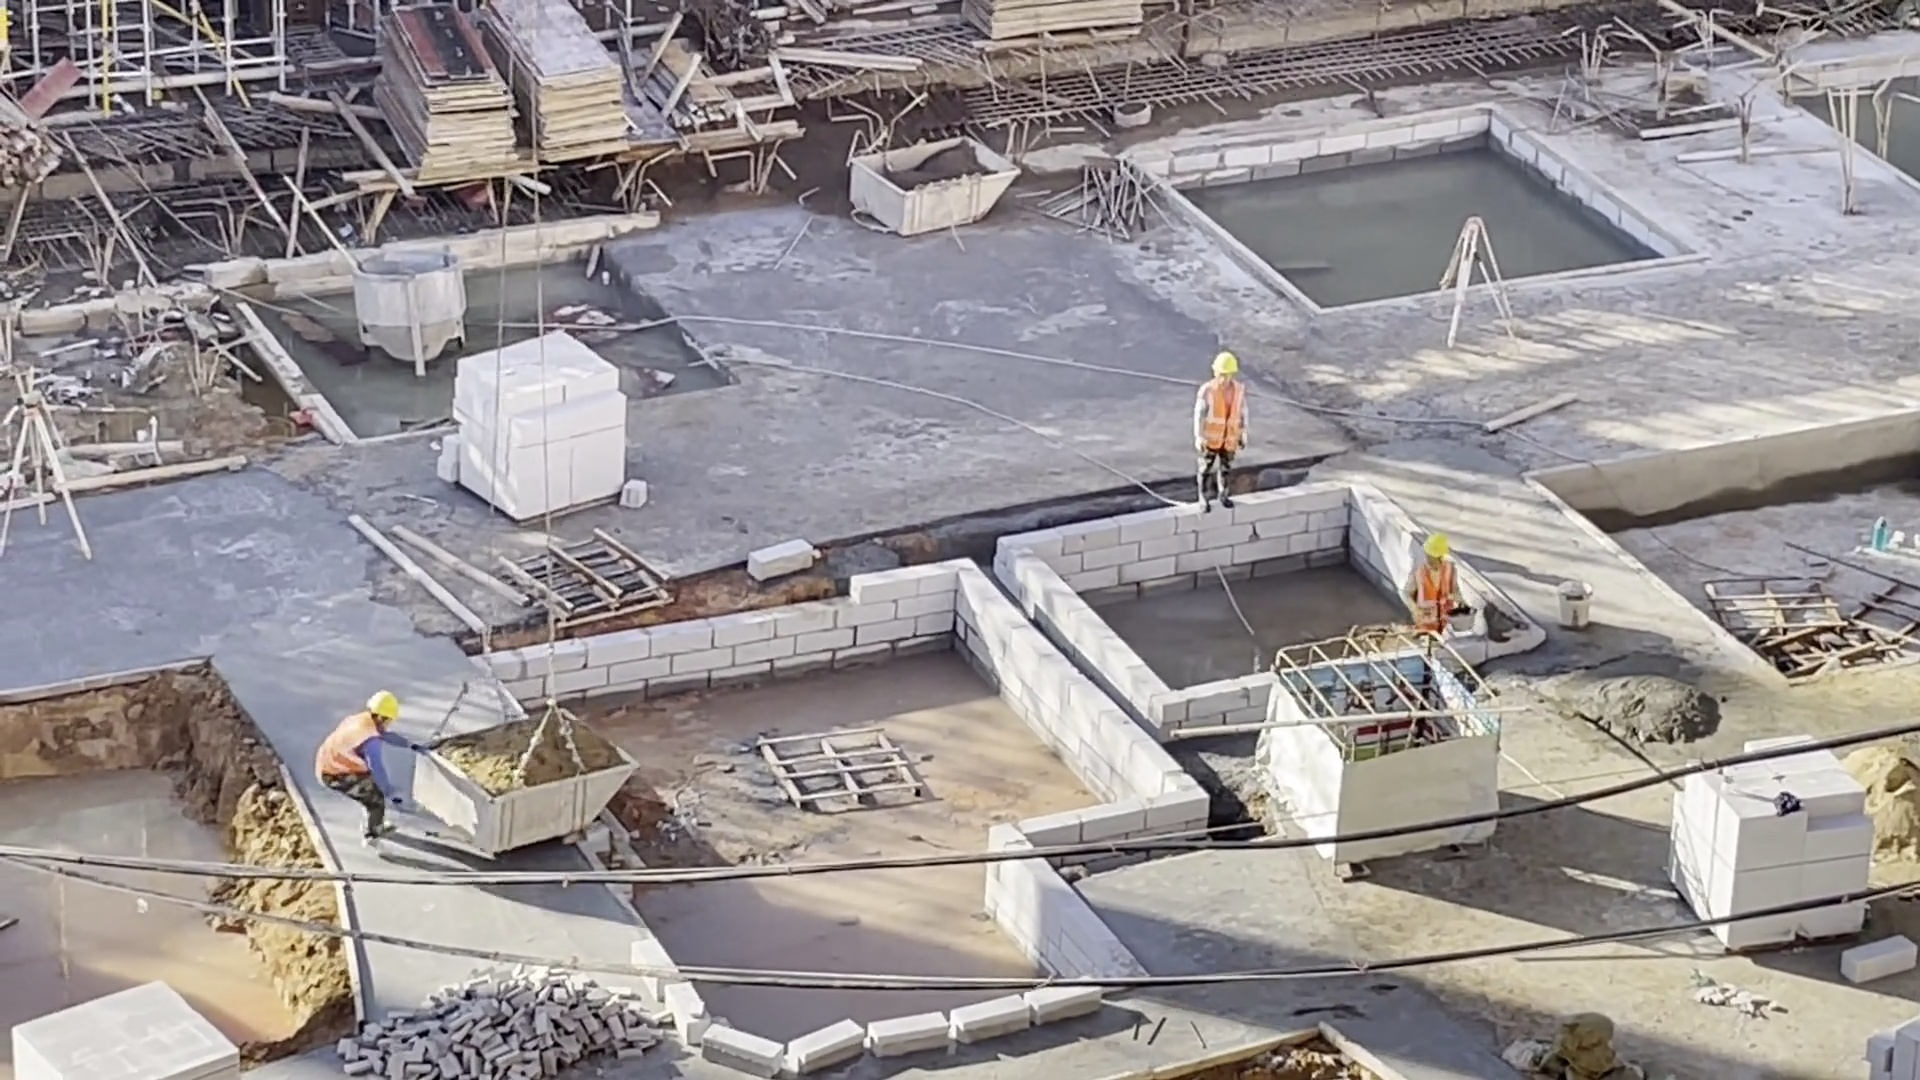board: (369, 6, 523, 182), (475, 2, 634, 165), (949, 6, 1147, 56)
brick: (423, 322, 627, 519), (1671, 778, 1878, 898), (7, 974, 241, 1080)
helmet: (363, 691, 401, 718), (1422, 532, 1451, 563), (1213, 351, 1240, 377)
hopper: (419, 701, 634, 854), (836, 132, 1025, 235), (355, 243, 469, 382)
person: (315, 689, 422, 859), (1189, 350, 1253, 515), (1397, 532, 1475, 645)
vest: (313, 713, 380, 782), (1195, 379, 1243, 454), (1410, 562, 1453, 630)
wood: (4, 91, 63, 190)
